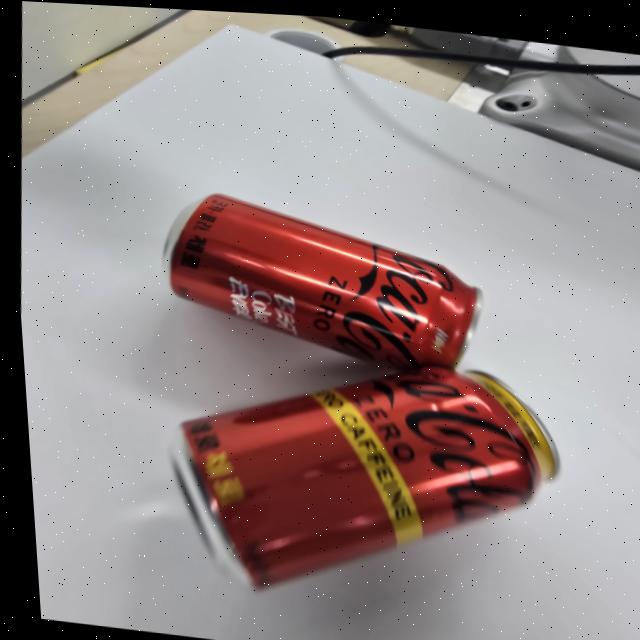can_coke_decaf: (167, 370, 554, 589)
can_coke_zero: (156, 191, 481, 377)
